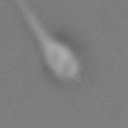normal: (11, 1, 49, 43)
